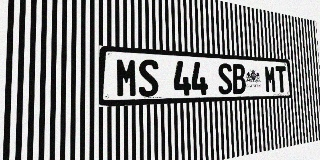4: (173, 61, 191, 96), (191, 62, 208, 95)
B: (232, 64, 246, 94)
M: (116, 58, 138, 98), (264, 65, 277, 93)
S: (138, 59, 159, 97), (217, 63, 233, 94)
T: (275, 66, 287, 93)
